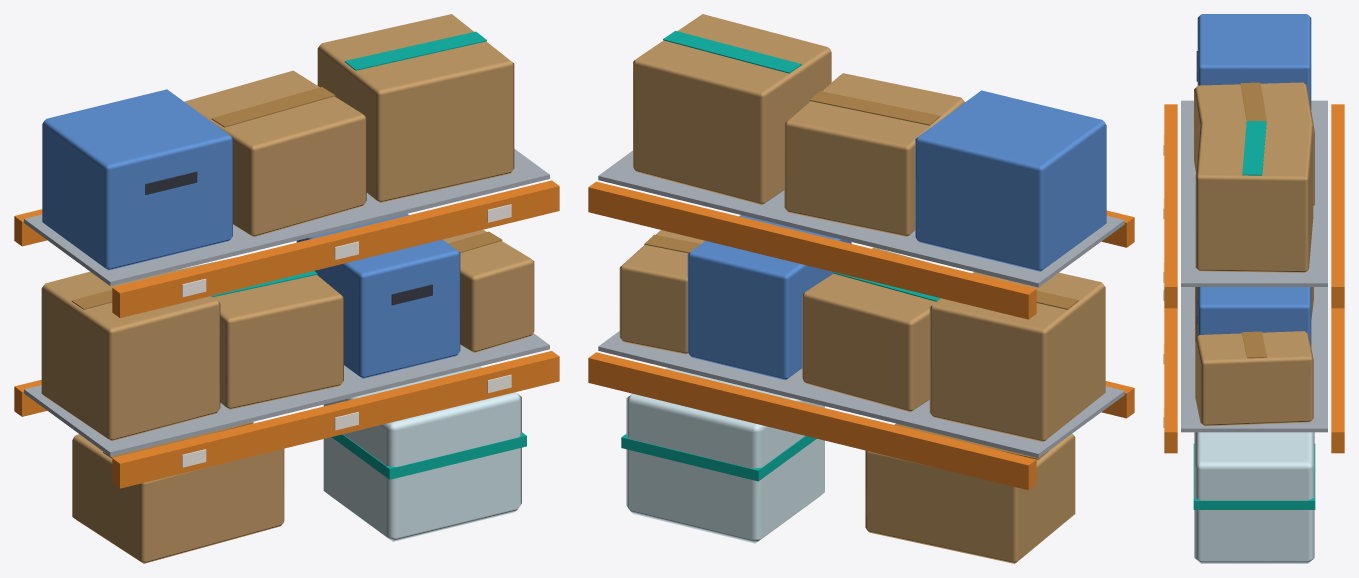
File: station_buffer_ausstattung_1_2.glb
3 views of the same model, side by side, from view 1: azimuth 30°, elevation 25°; view 2: azimuth 150°, elevation 25°; view 3: azimuth 270°, elevation 25° (orthographic). The views are drawn at different scales.
Parts seen in each view (by area): view 1: station_buffer_ausstattung_1_2; view 2: station_buffer_ausstattung_1_2; view 3: station_buffer_ausstattung_1_2.
Boxes of the visible parts, <box> form: station_buffer_ausstattung_1_2: <box>14,14,559,563</box>; station_buffer_ausstattung_1_2: <box>588,14,1134,563</box>; station_buffer_ausstattung_1_2: <box>1163,14,1344,563</box>.
Size of the model in its own units: 1.3 by 1.28 by 0.543.
